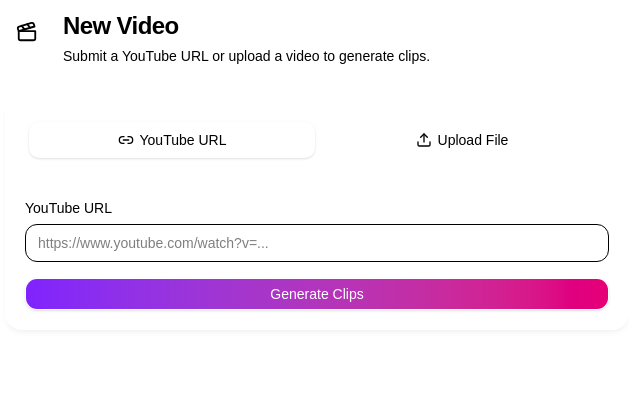
Test case: NewVideoPage › shows an error message and does not navigate when submission fails
Type "https://www.youtube.com/watch?v=abc123" into the field labelled "YouTube URL".
click(317, 243); type("https://www.youtube.com/watch?v=abc123")  # box [25,224,609,262]
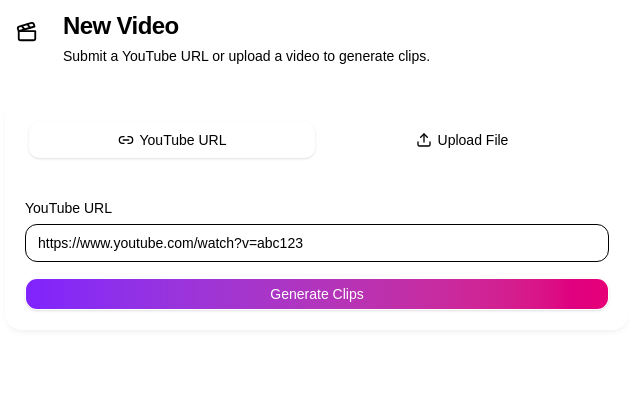
Click the button "Generate Clips".
click(317, 294)  # box [25,278,609,310]
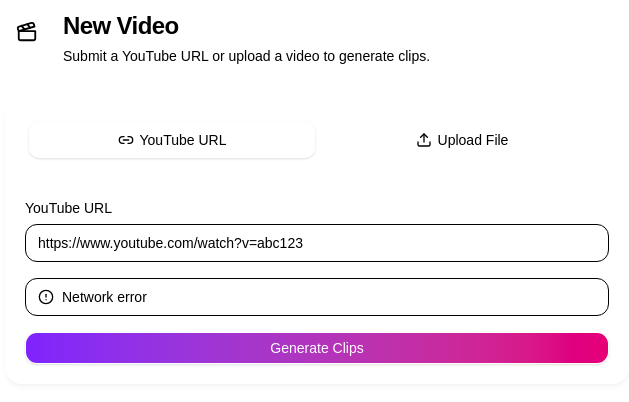
Now the text "Network error" is shown, box [62,287,147,307]
